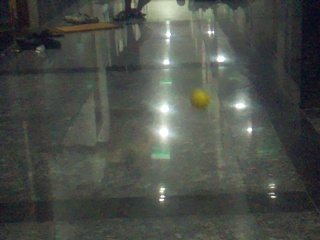ball: (190, 89, 209, 107)
